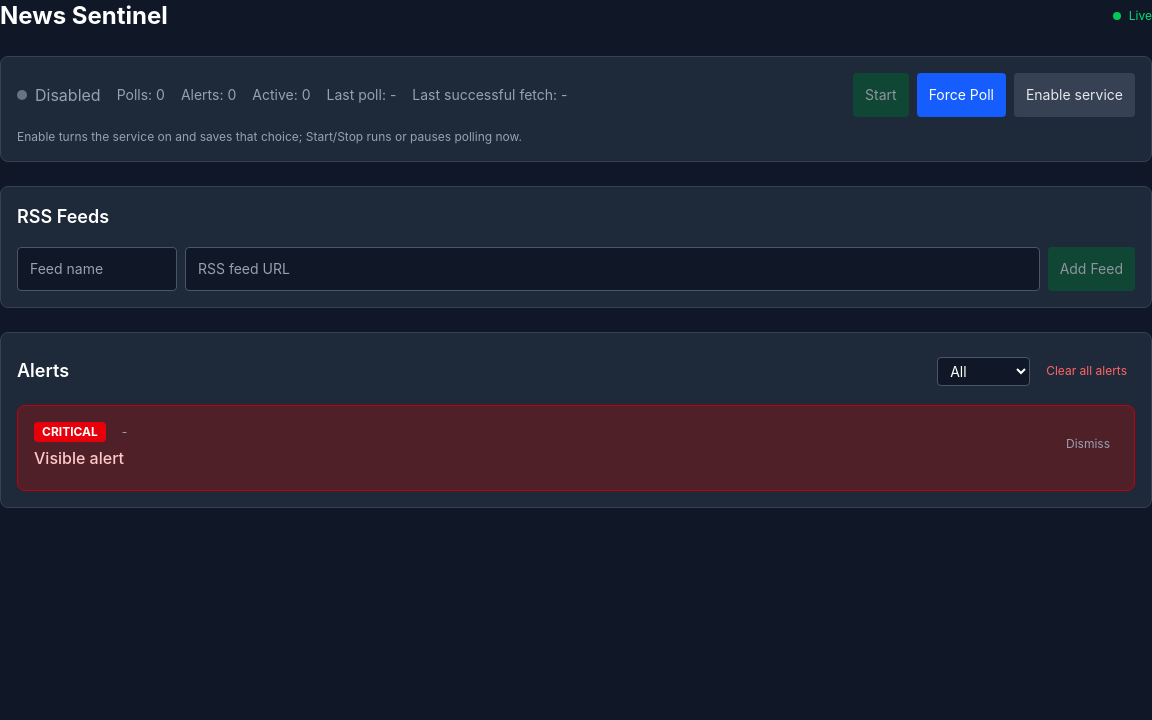
Test case: clearing alerts invalidates a later page of a refresh even when it ignores abort
Expected: the heading "Visible alert" is shown, [34,448,124,468]
Click the button "Force Poll". click: (961, 95)
box: [917,73,1006,117]
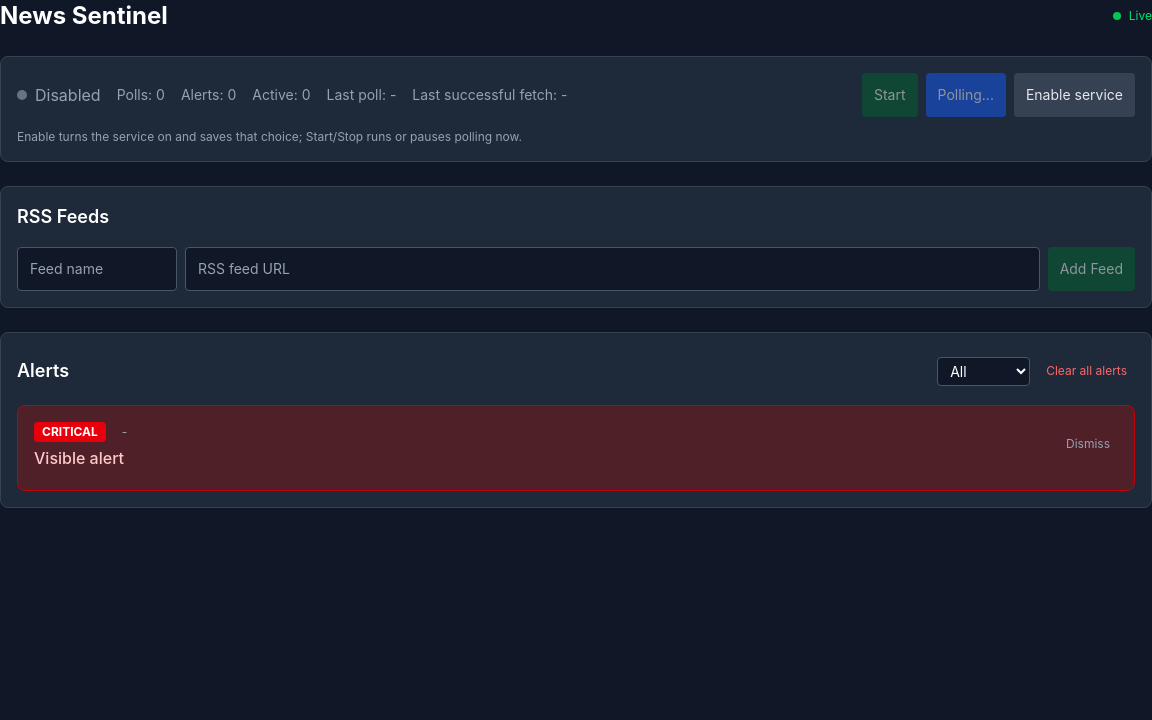
Click the button "Clear all alerts". click: (1087, 371)
box: [1038,349,1135,393]
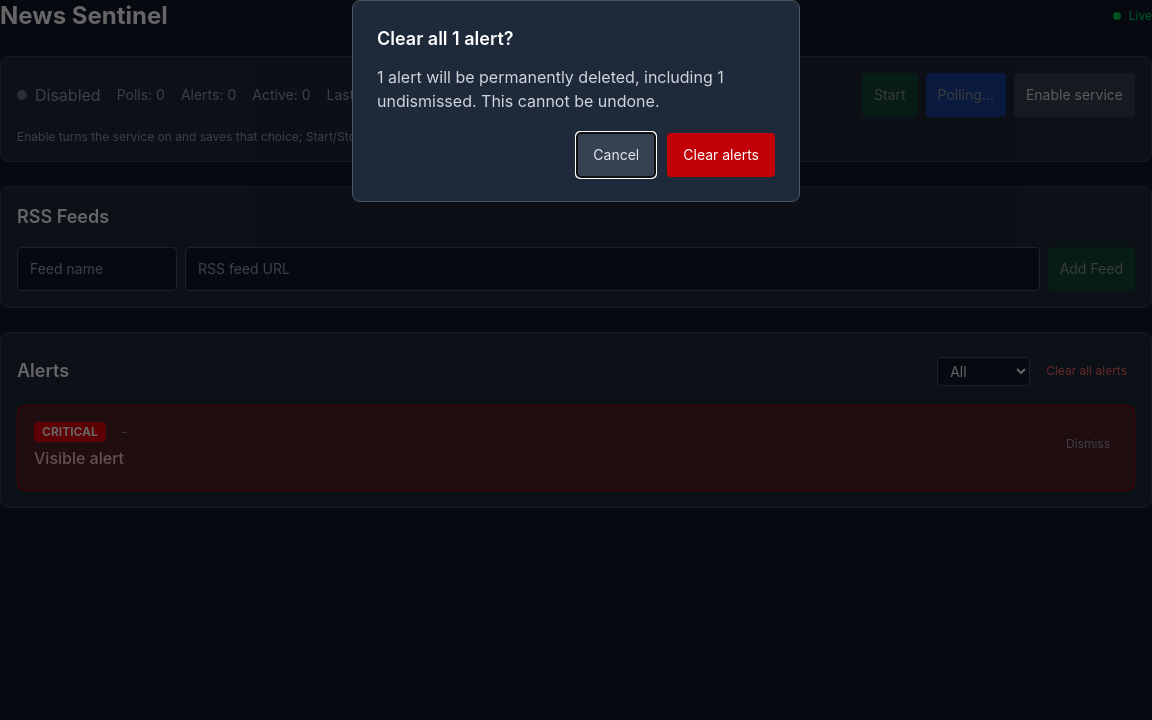
Click the button "Clear alerts". click: (721, 155)
box: [667,133,775,177]
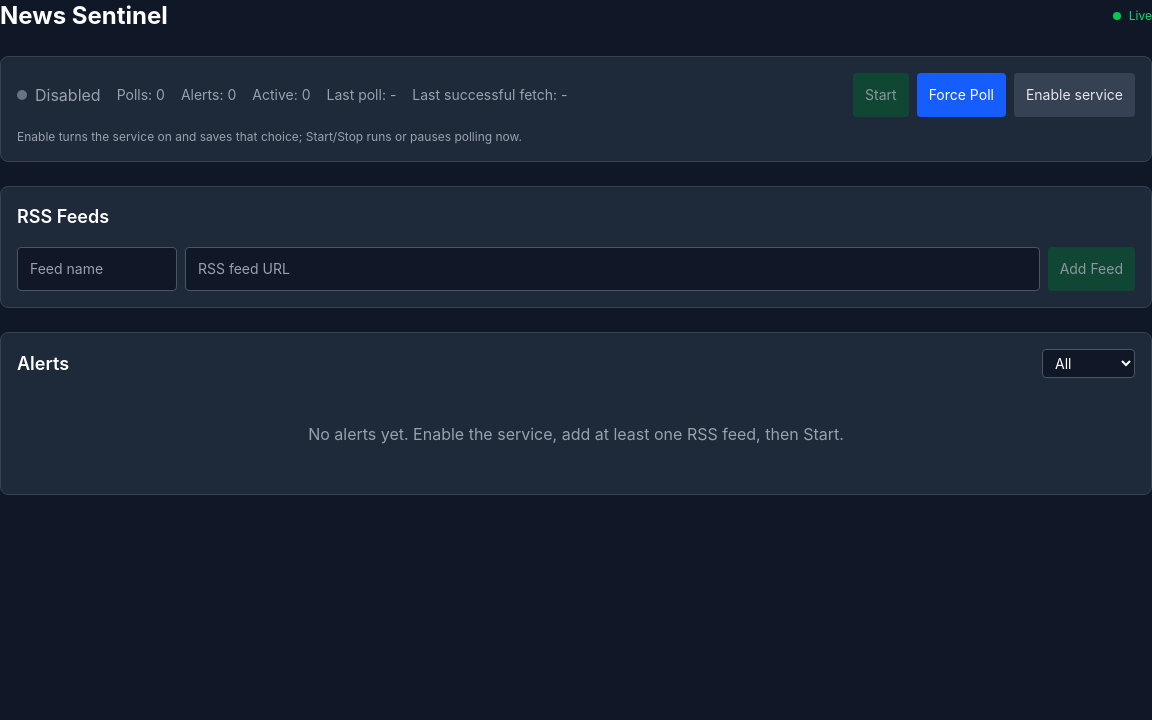
Result: the heading "Visible alert" is gone
Result: the text "No alerts yet" is shown at [308,424,844,444]
